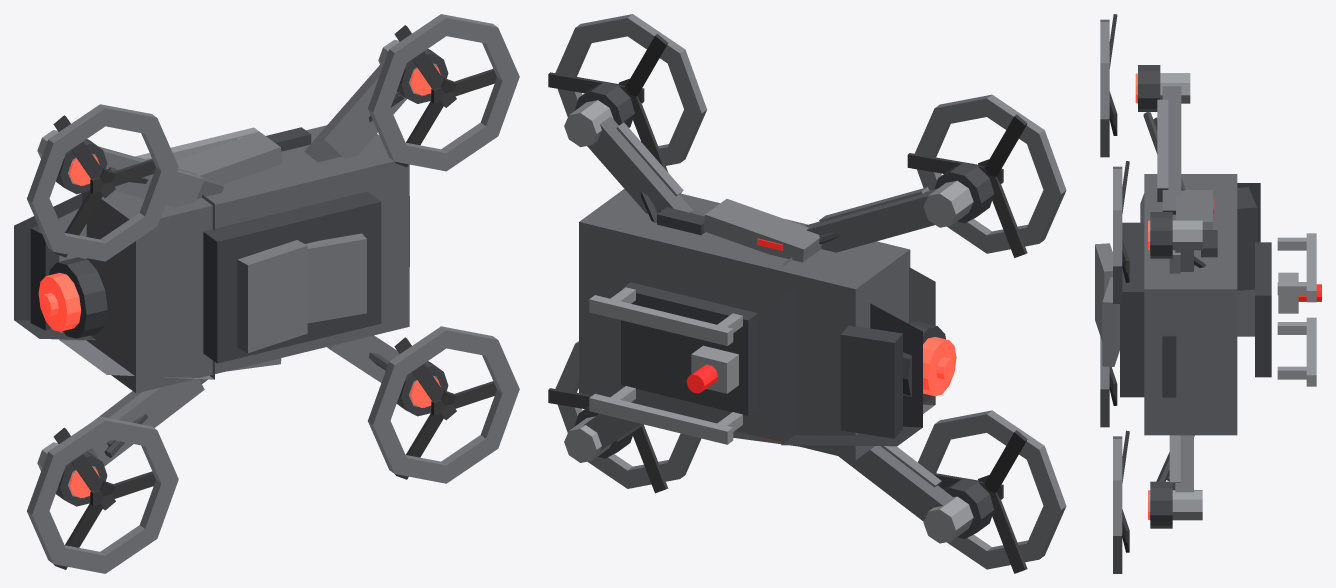
Rendered from drone_variant_02_interceptor.glb.
3 renders of one model, left to right at view 1: azimuth 30°, elevation 25°; view 2: azimuth 150°, elevation 25°; view 3: azimuth 270°, elevation 25°, orthographic. The views are drawn at different scales.
Visible parts, largest first — view 1: body_core, body_roof, rotor_guard_0, rotor_guard_2, rotor_guard_1, rotor_guard_3, top_module_a, top_module_b, side_armor_1, lower_nose, arm_armor_0, sensor_outer (+25 smaller); view 2: body_core, underside_frame, rotor_guard_1, rotor_guard_0, chin_plate, rotor_guard_3, lower_nose, side_armor_1, arm_1, arm_3, rotor_guard_2, arm_0 (+28 smaller); view 3: body_core, body_roof, underside_frame, chin_plate, arm_1, rotor_guard_1, rotor_guard_2, rotor_guard_3, top_module_b, lower_nose, side_armor_1, arm_armor_1 (+20 smaller).
Boxes of the visible parts, <box> form: body_core: <box>82,125,409,393</box>; body_roof: <box>203,191,381,363</box>; rotor_guard_0: <box>27,416,178,573</box>; rotor_guard_2: <box>368,326,519,483</box>; rotor_guard_1: <box>27,104,178,261</box>; rotor_guard_3: <box>367,14,519,171</box>; top_module_a: <box>237,240,307,353</box>; top_module_b: <box>305,233,366,323</box>; side_armor_1: <box>176,131,282,184</box>; lower_nose: <box>14,193,96,340</box>; arm_armor_0: <box>91,379,204,466</box>; sensor_outer: <box>49,257,107,338</box>; body_core: <box>579,189,910,460</box>; underside_frame: <box>621,282,757,415</box>; rotor_guard_1: <box>914,94,1066,253</box>; rotor_guard_0: <box>918,410,1066,569</box>; chin_plate: <box>840,325,902,438</box>; rotor_guard_3: <box>555,14,706,165</box>; lower_nose: <box>781,285,922,446</box>; side_armor_1: <box>704,199,821,262</box>; arm_1: <box>804,188,937,252</box>; arm_3: <box>587,116,692,213</box>; rotor_guard_2: <box>555,341,701,488</box>; arm_0: <box>839,446,953,521</box>; body_core: <box>1144,174,1237,435</box>; body_roof: <box>1120,222,1144,397</box>; underside_frame: <box>1255,242,1271,377</box>; chin_plate: <box>1237,187,1257,290</box>; arm_1: <box>1162,86,1181,214</box>; rotor_guard_1: <box>1100,19,1109,157</box>; rotor_guard_2: <box>1113,436,1122,573</box>; rotor_guard_3: <box>1113,166,1122,303</box>; top_module_b: <box>1102,277,1119,366</box>; lower_nose: <box>1237,183,1260,336</box>; side_armor_1: <box>1176,190,1212,229</box>; arm_armor_1: <box>1157,99,1168,201</box>.
Size of the model in its own units: 0.7976 by 0.716 by 0.3657.
